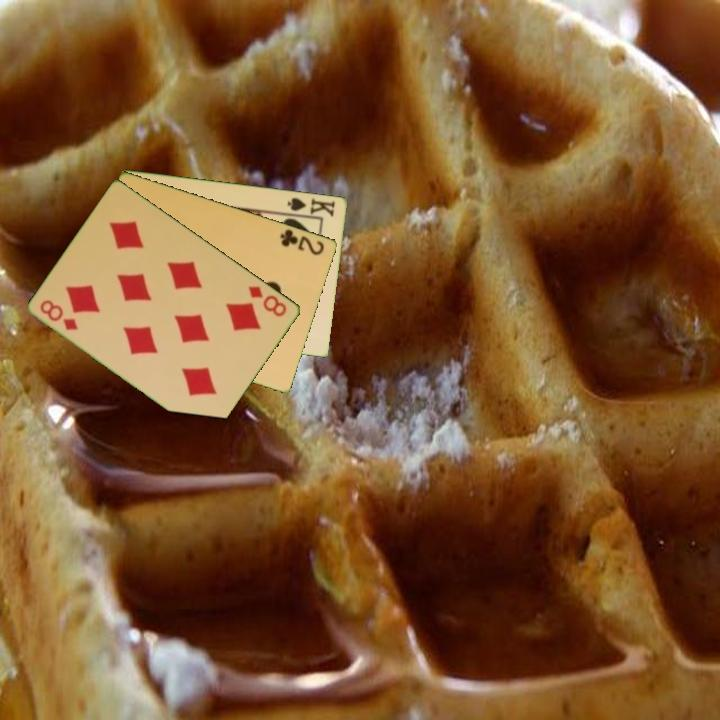2c: (277, 225, 327, 258)
8d: (245, 282, 290, 320), (37, 296, 81, 333)
Ks: (284, 194, 338, 220)
